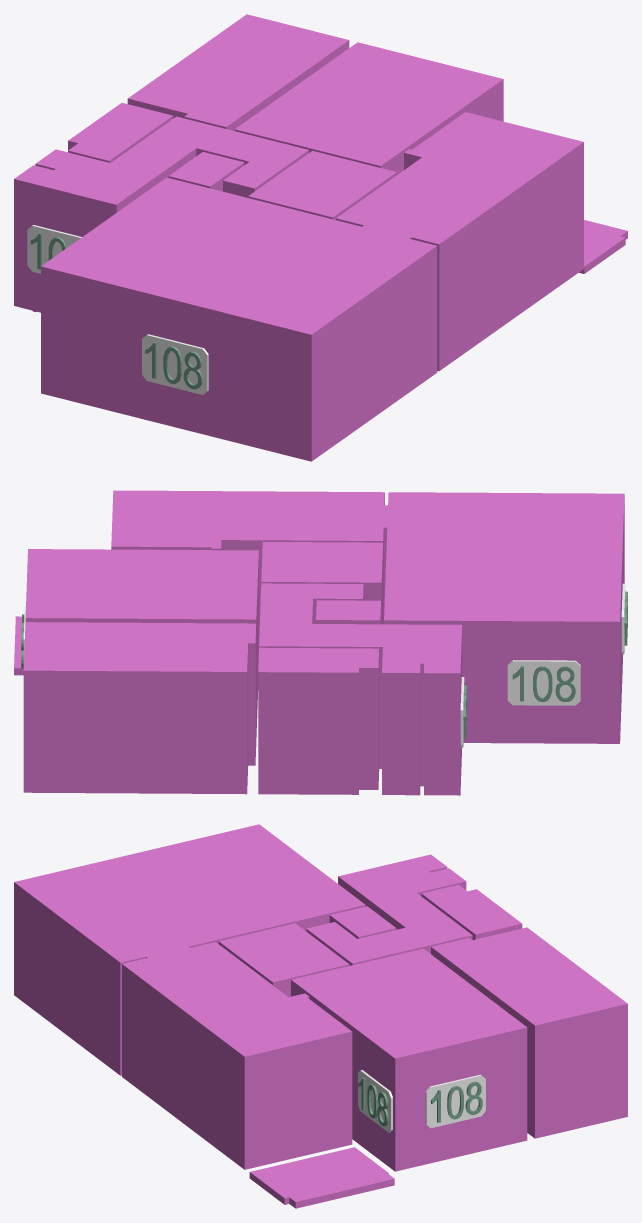
3 views of the same model, one above another, from view 1: azimuth 30°, elevation 25°; view 2: azimuth 150°, elevation 25°; view 3: azimuth 270°, elevation 25° (orthographic). The views are drawn at different scales.
Parts seen in each view (by area): view 1: g_7, g_6, g_0, g_3, g_1, g_4, g_2, g_20, g_5, g_8, g_16; view 2: g_7, g_1, g_3, g_2, g_0, g_6, g_4, g_12, g_5, g_8, g_10; view 3: g_7, g_6, g_0, g_1, g_3, g_8, g_4, g_2, g_28, g_5, g_24.
Part boxes in pixels (x1,y1,x2,y2): g_7: (41, 177, 437, 461); g_6: (336, 112, 583, 371); g_0: (234, 42, 503, 174); g_3: (14, 116, 308, 312); g_1: (127, 14, 349, 130); g_4: (248, 151, 396, 219); g_2: (68, 103, 173, 162); g_20: (142, 334, 208, 394); g_5: (168, 152, 244, 191); g_8: (579, 220, 627, 273); g_16: (27, 225, 81, 273); g_7: (384, 492, 624, 743); g_1: (23, 622, 256, 794); g_3: (259, 583, 462, 795); g_2: (258, 647, 379, 794); g_0: (25, 549, 258, 737); g_6: (111, 490, 386, 653); g_4: (261, 542, 382, 624); g_12: (507, 660, 580, 705); g_5: (316, 600, 380, 624); g_8: (14, 616, 23, 675); g_10: (555, 666, 575, 701); g_7: (14, 824, 365, 1075); g_6: (122, 942, 352, 1169); g_0: (291, 948, 527, 1171); g_1: (431, 927, 627, 1138); g_3: (306, 854, 472, 965); g_8: (249, 1147, 394, 1208); g_4: (218, 923, 349, 996); g_2: (421, 885, 522, 939); g_28: (425, 1074, 485, 1128); g_5: (329, 906, 396, 938); g_24: (358, 1070, 392, 1132).
Size of the model in its own units: 12.9 by 2.74 by 12.67.
